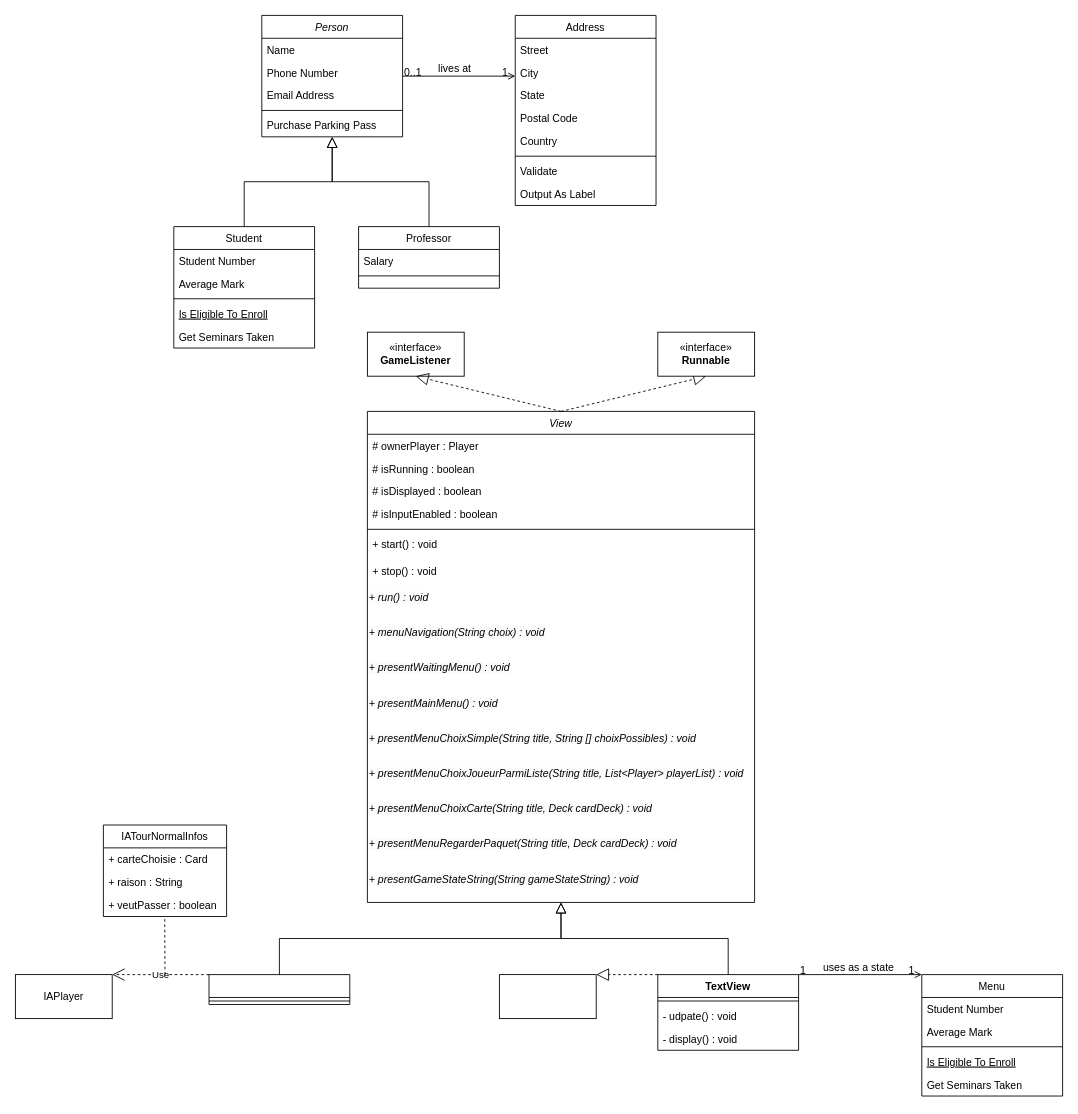
The diagram is 1078 pixels wide and 1114 high, and some of its shapes have lost their labels. The centre of each missing label's shape, as x and y in pixels:
"IAView" belongs at [279,989].
"«interface» InputListener" belongs at [547,996].
